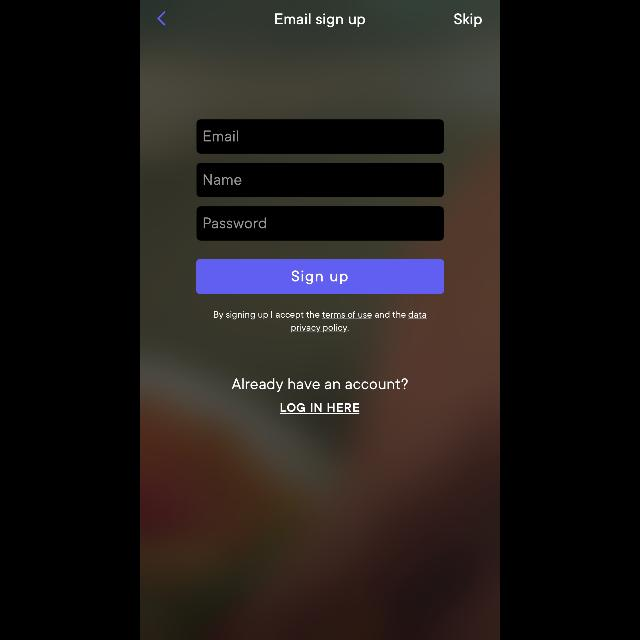icon: (158, 12, 166, 26)
input: (196, 207, 444, 241), (196, 163, 444, 197), (196, 120, 444, 154)
text: (214, 312, 426, 332), (232, 378, 408, 392), (275, 14, 365, 28), (280, 402, 360, 413), (204, 218, 266, 228), (204, 174, 242, 186), (204, 130, 238, 142), (454, 14, 482, 28)
textbutton: (196, 260, 444, 294)
